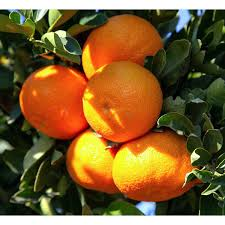orange: (112, 127, 207, 202), (78, 62, 164, 143), (14, 58, 93, 141), (61, 131, 137, 199)
